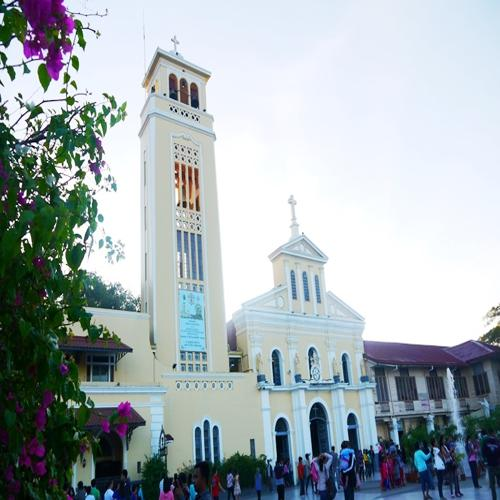Manaoag Church: (130, 17, 379, 499)
